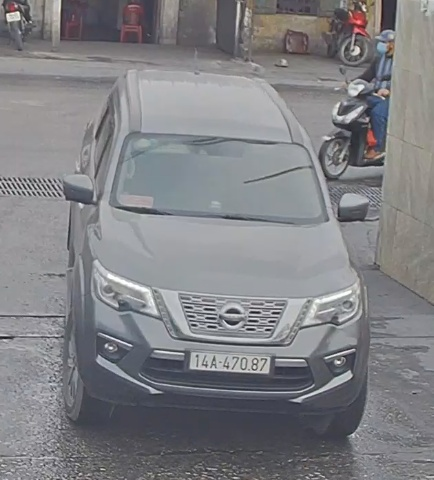vehicle plate: (183, 344, 276, 377)
